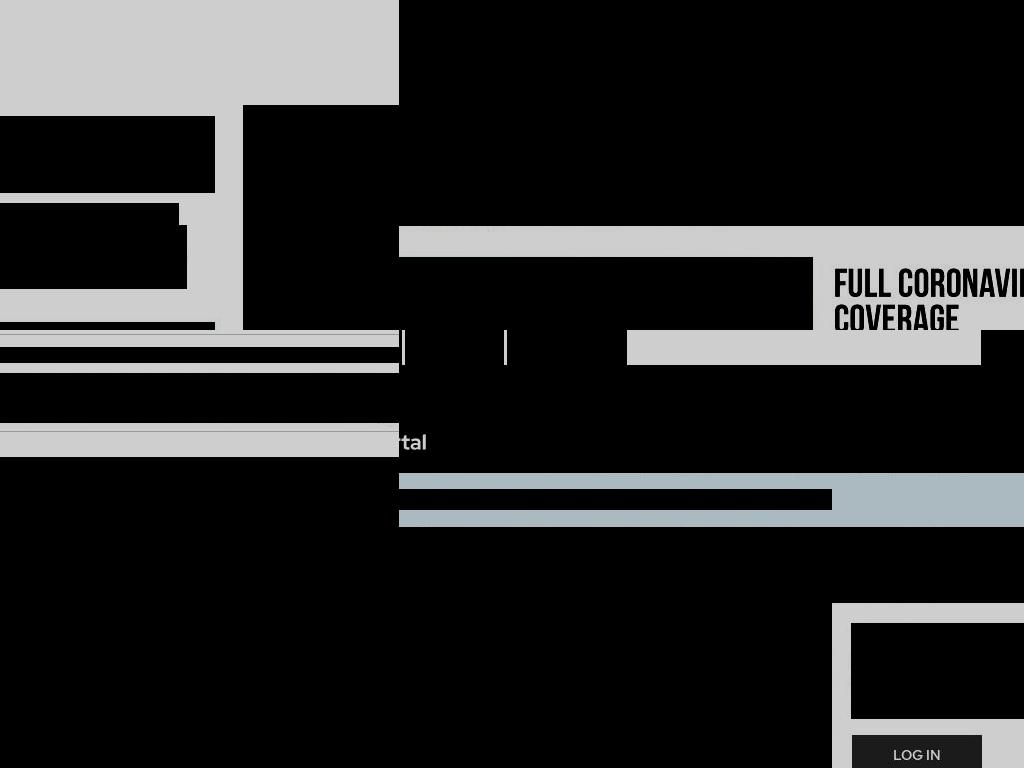button: (0, 457, 399, 768), (0, 373, 399, 423), (500, 394, 694, 456), (882, 394, 1002, 456), (777, 394, 882, 456), (694, 394, 777, 456), (851, 735, 982, 768), (507, 330, 627, 365), (405, 330, 504, 365), (981, 330, 1024, 365)
heading: (399, 603, 802, 657), (0, 116, 215, 193), (0, 478, 399, 517)
iframe: (399, 0, 1024, 226), (256, 522, 399, 768)
image: (0, 533, 399, 768), (243, 105, 399, 330), (0, 373, 399, 423), (828, 257, 1024, 330), (0, 459, 12, 470)
link: (399, 489, 513, 510), (743, 489, 828, 510)
text: (399, 667, 802, 727), (851, 623, 1024, 719), (0, 225, 187, 289), (0, 203, 179, 245), (20, 387, 318, 411), (0, 347, 399, 363), (513, 489, 743, 510), (27, 225, 99, 245), (0, 225, 27, 245), (22, 457, 52, 475), (828, 489, 832, 510)
